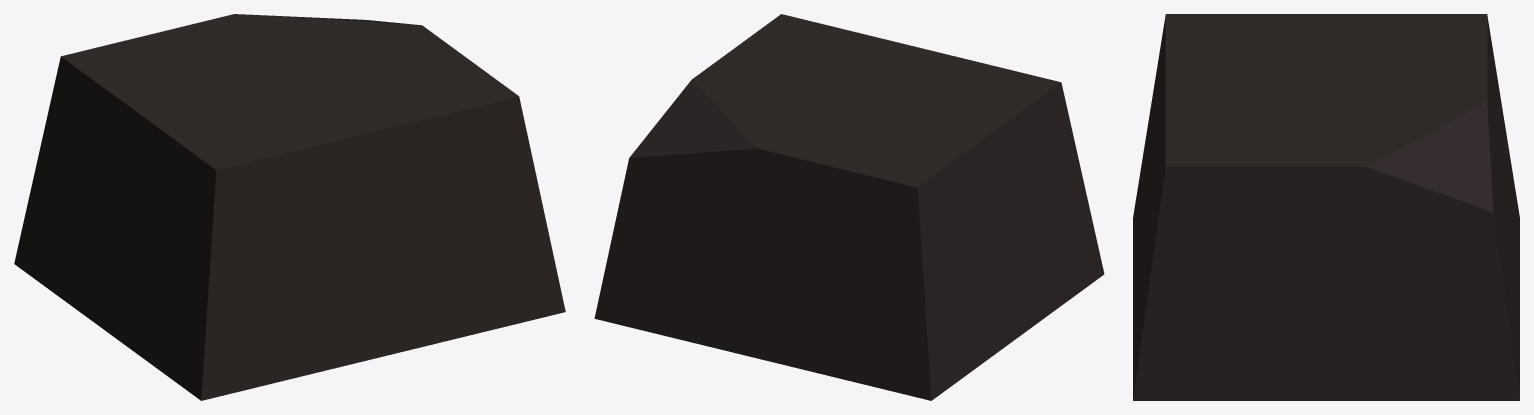
Rendered from Rock 06.FBX.
The picture shows the model from 3 angles, left to right: view 1: azimuth 30°, elevation 25°; view 2: azimuth 150°, elevation 25°; view 3: azimuth 270°, elevation 25°; orthographic projection. The views are drawn at different scales.
Visible parts, largest first — view 1: Box001; view 2: Box001; view 3: Box001.
Part boxes in pixels (bbox=[...]): Box001: bbox=[14, 14, 565, 400]; Box001: bbox=[594, 14, 1104, 400]; Box001: bbox=[1133, 14, 1519, 400].
Bounding box in the file's own units: 22.18 × 12.31 × 19.73.
